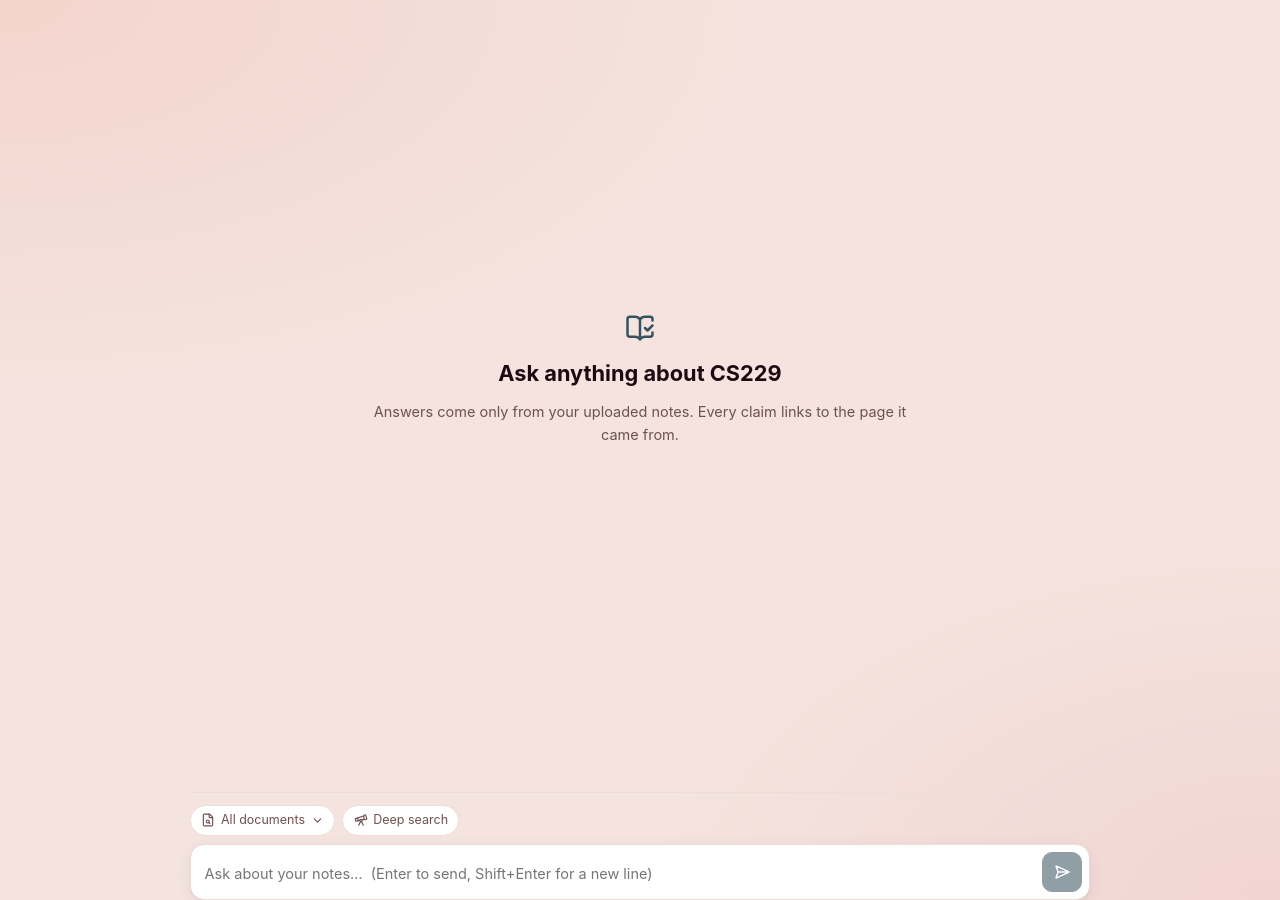
Chat › shows request failures (e.g. validation) inline
The width and height of the screenshot is (1280, 900).
Replace the text in the text box named "Your question" with "x": (619,874) [205,857,1034,892]
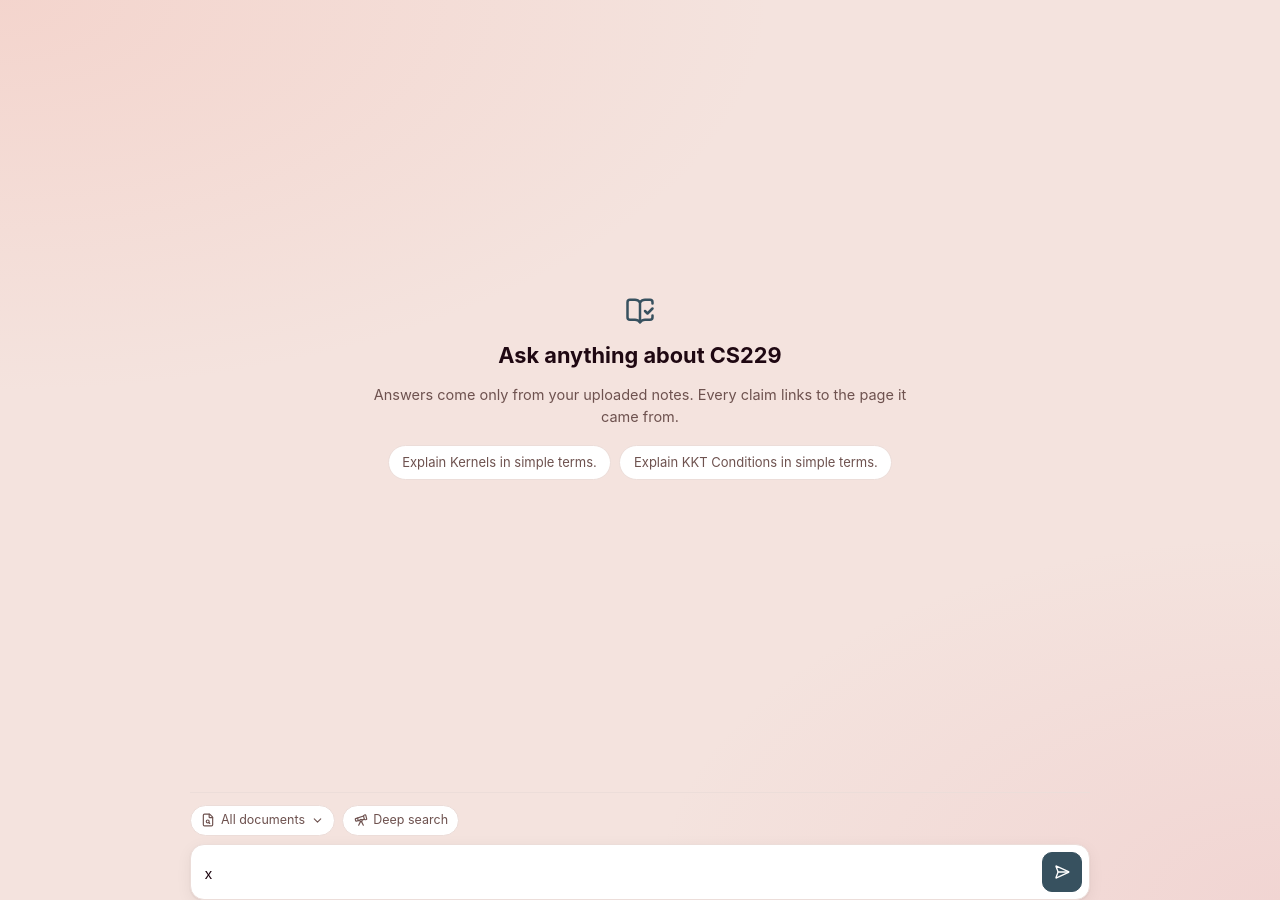
Press Enter in the text box named "Your question", box [205,857,1034,892]
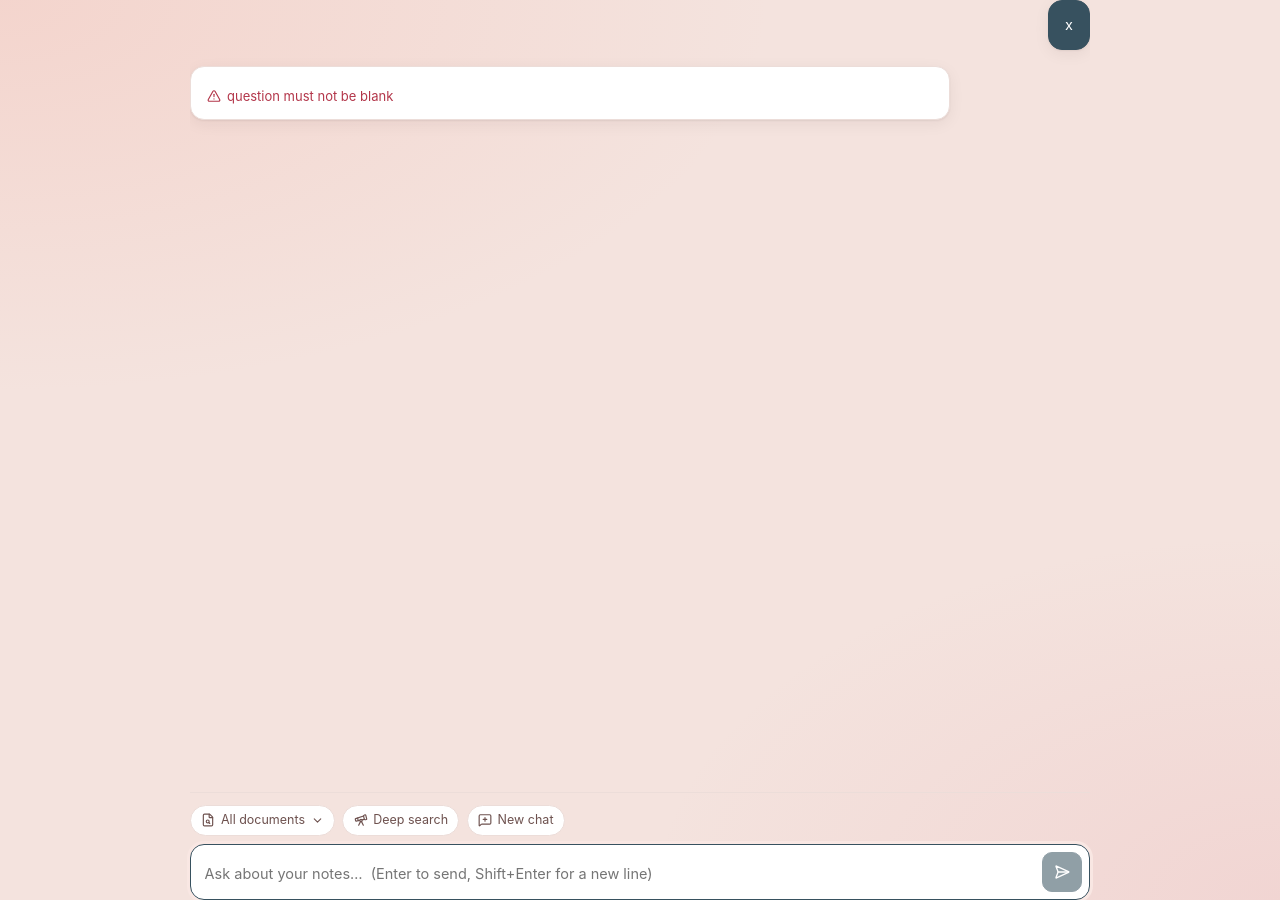
Check: the message reads "question must not be blank", box [227,88,393,104]
